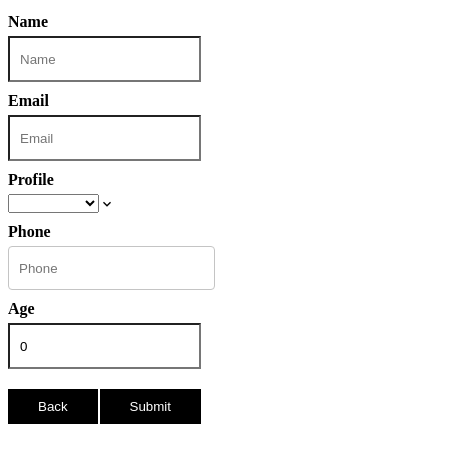
it: UserForm Component › should show message error when user try submit with no values
Click the button with test id "submit-button" at x=150, y=406, box [100,389,201,424]
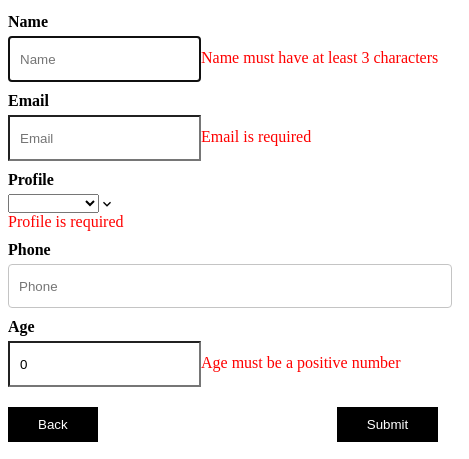
Check: the text "Name must have at least 3 characters" is shown, box [201,49,438,66]
Check: the text "Email is required" is shown, box [201,128,311,145]
Check: the text "Profile is required" is shown, box [8,213,124,230]
